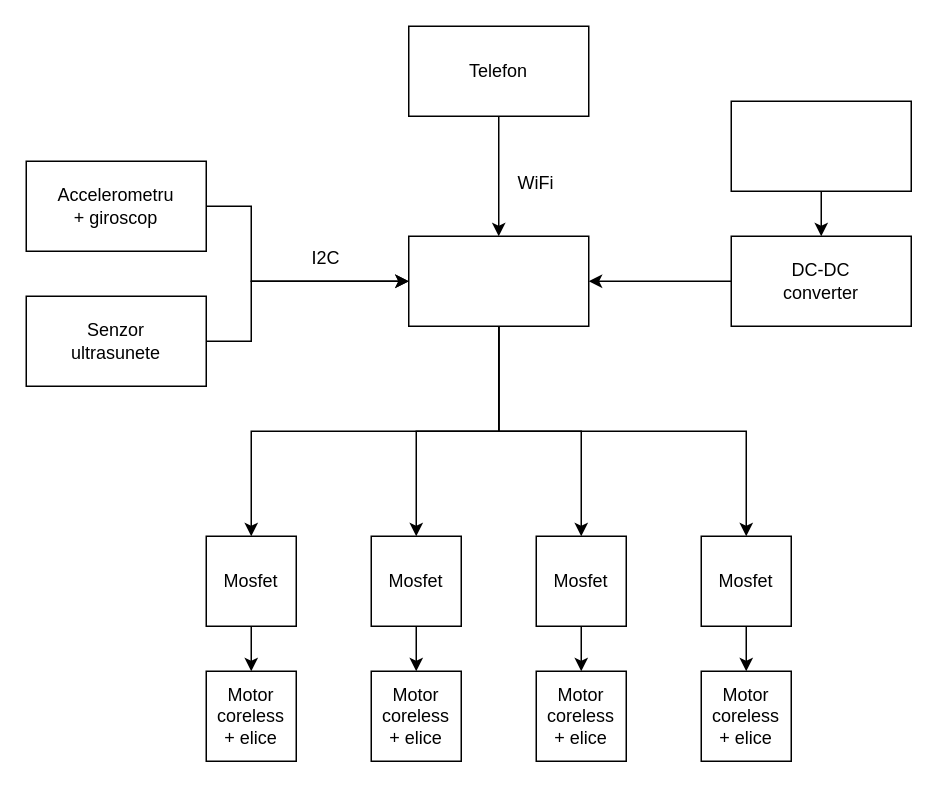
The diagram is 938 pixels wide and 788 high, and some of its shapes have lost their labels. Each missing label, with the box of its shape:
Baterie: (730, 100, 911, 191)
Microcontroller: (407, 235, 589, 326)
